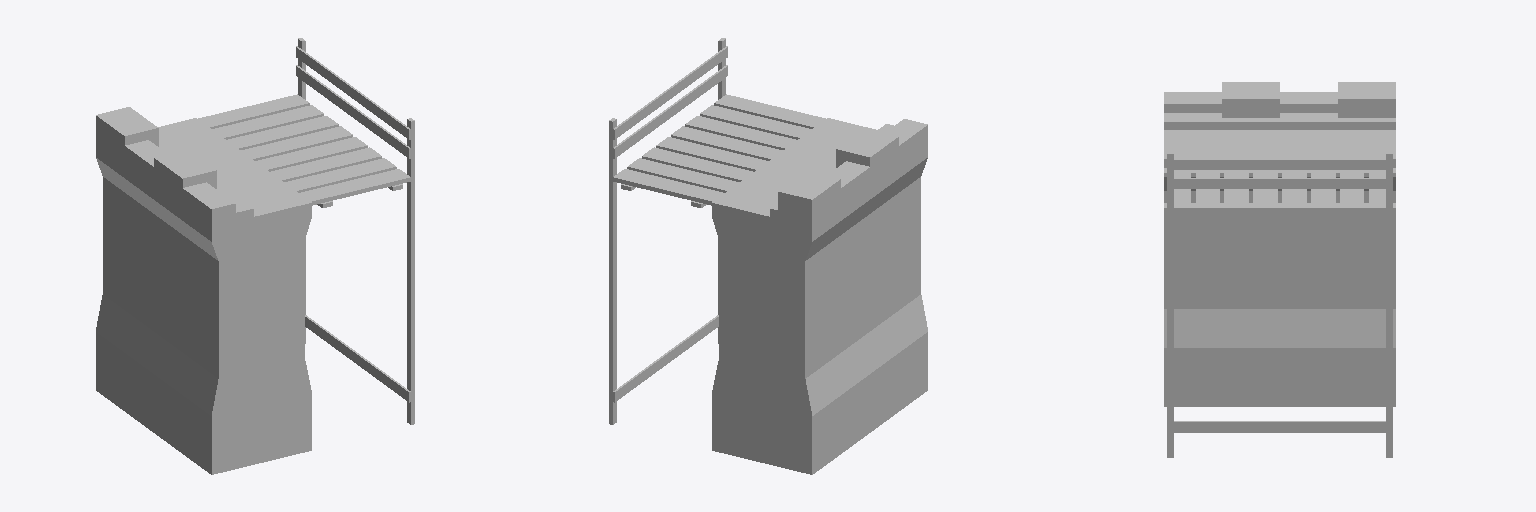
File: wallNarrowWoodFence.obj
3 renders of one model, left to right at view 1: azimuth 30°, elevation 25°; view 2: azimuth 150°, elevation 25°; view 3: azimuth 270°, elevation 25°, orthographic.
Visible parts, largest first — view 1: wallNarrowWoodFence, bridge 4; view 2: wallNarrowWoodFence, bridge 4; view 3: wallNarrowWoodFence, bridge 4.
Part boxes in pixels (x1,y1,x2,y2): wallNarrowWoodFence: (96, 107, 311, 474); bridge 4: (198, 38, 414, 424); wallNarrowWoodFence: (712, 118, 927, 474); bridge 4: (609, 38, 825, 424); wallNarrowWoodFence: (1164, 82, 1395, 406); bridge 4: (1164, 152, 1395, 457).
Size of the model in its own units: 10.2 by 14.44 by 10.